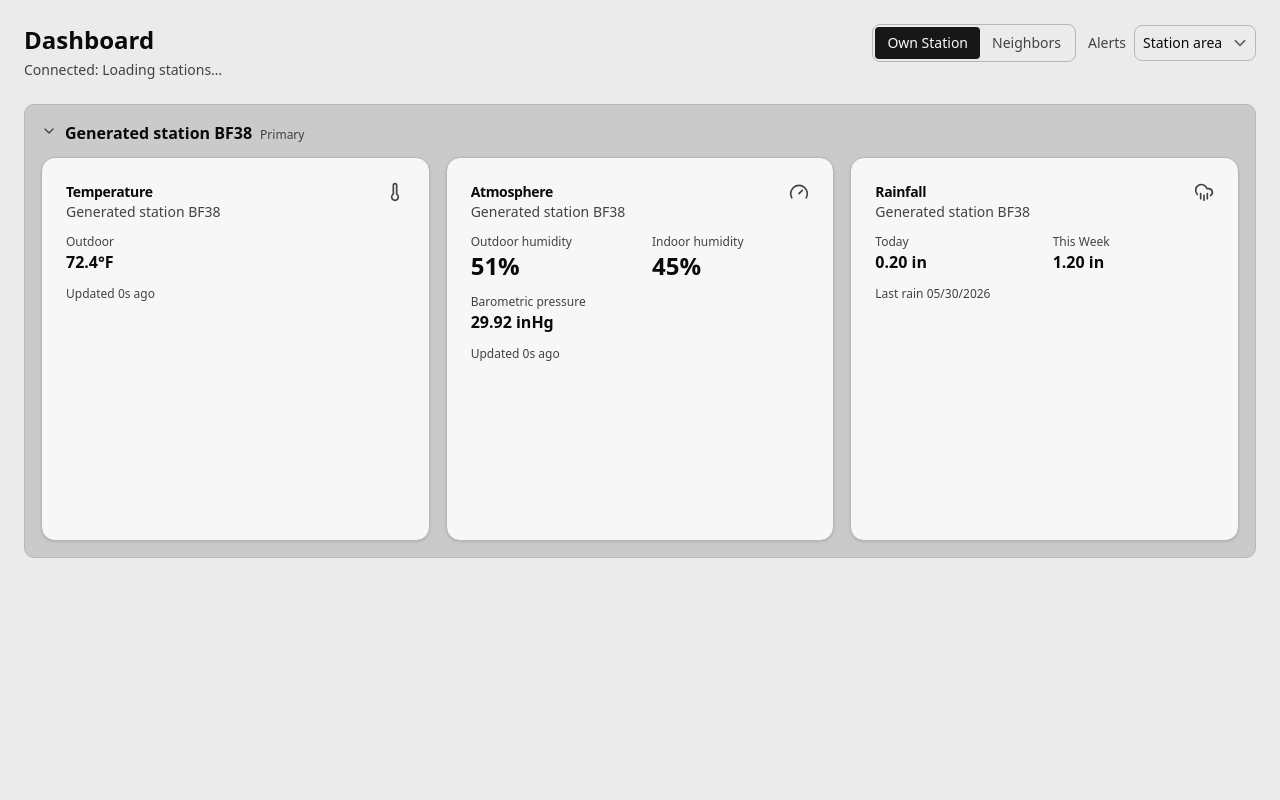
Test: DashboardPage › points neighbor unavailable guidance to the station header settings
The width and height of the screenshot is (1280, 800).
Click the button with test id "dashboard-source-neighbors-button" at (1026, 43), box [980,27,1073,59]
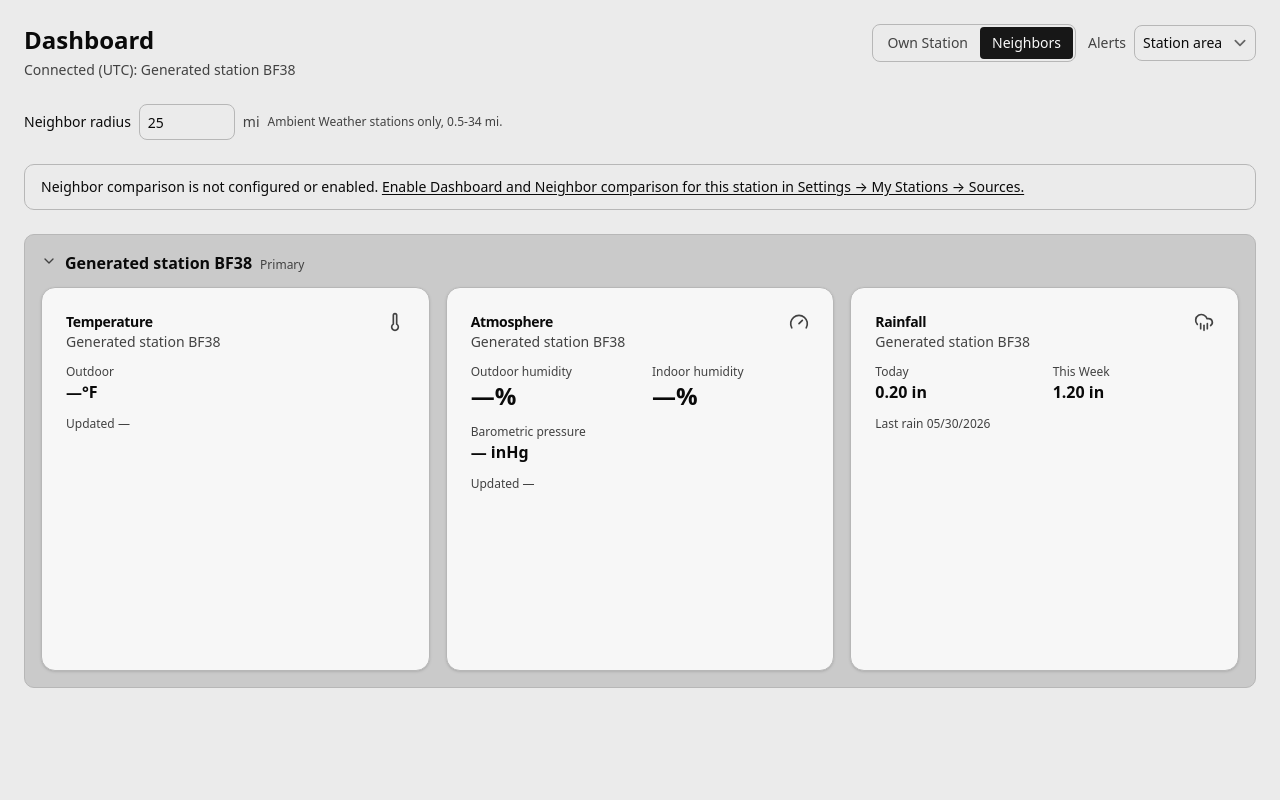
expect the message with test id "dashboard-neighbors-unavailable" shows "Enable Dashboard and Neighbor comparison for this station in Settings → My Stations → Sources.": met, box [382,177,1024,196]
